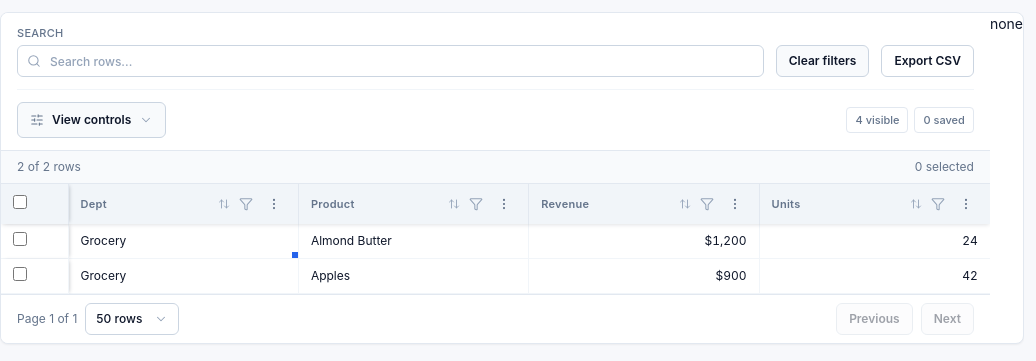
Test: DataGrid detail panel › toggles closed when the active row is clicked again and on Escape
The width and height of the screenshot is (1036, 361).
Click the text "Almond Butter" at (495, 242), box [1,224,990,259]
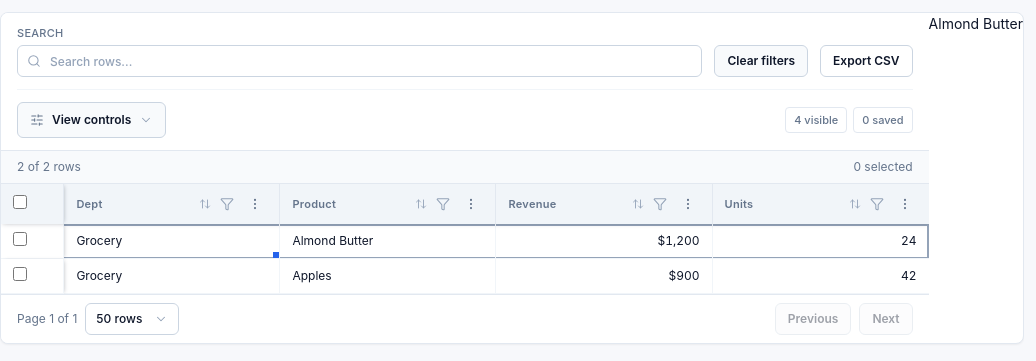
Expected: the text with test id "panel" reads "Almond Butter", [929,15,1023,32]
Click the text "Almond Butter" at (465, 242), box [1,224,929,259]
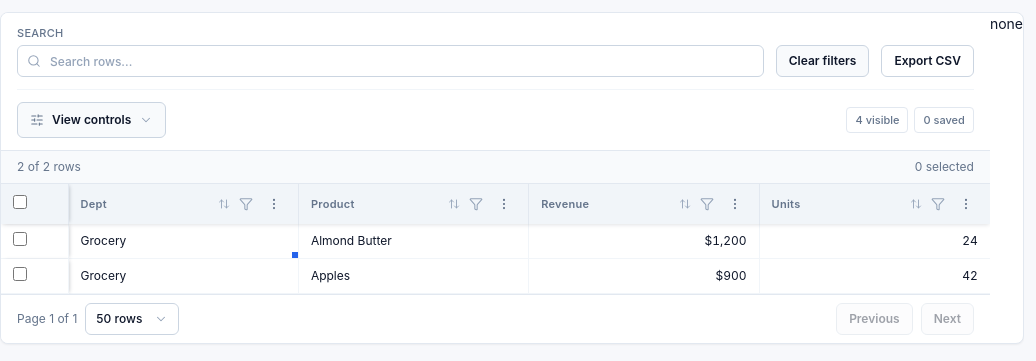
Expected: the text with test id "panel" reads "none", [990,15,1023,32]
Click the text "Almond Butter" at (495, 242), box [1,224,990,259]
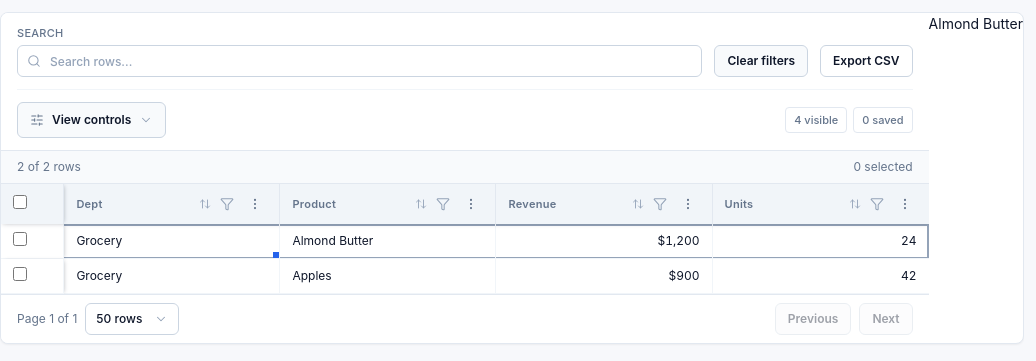
Expected: the text with test id "panel" reads "Almond Butter", [929,15,1023,32]
Press Escape
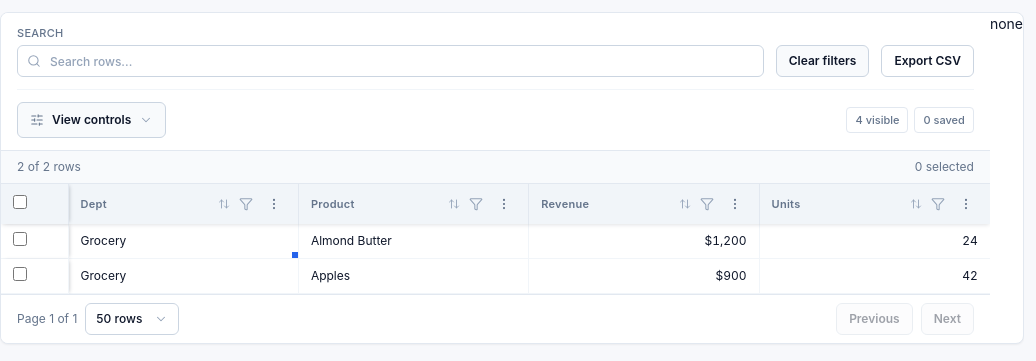
Expected: the text with test id "panel" reads "none", [990,15,1023,32]
